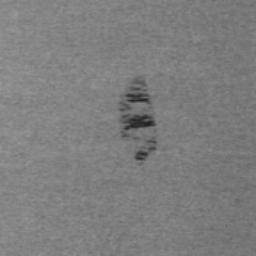Secondary rust skin: (116, 75, 158, 139), (133, 139, 159, 162)
